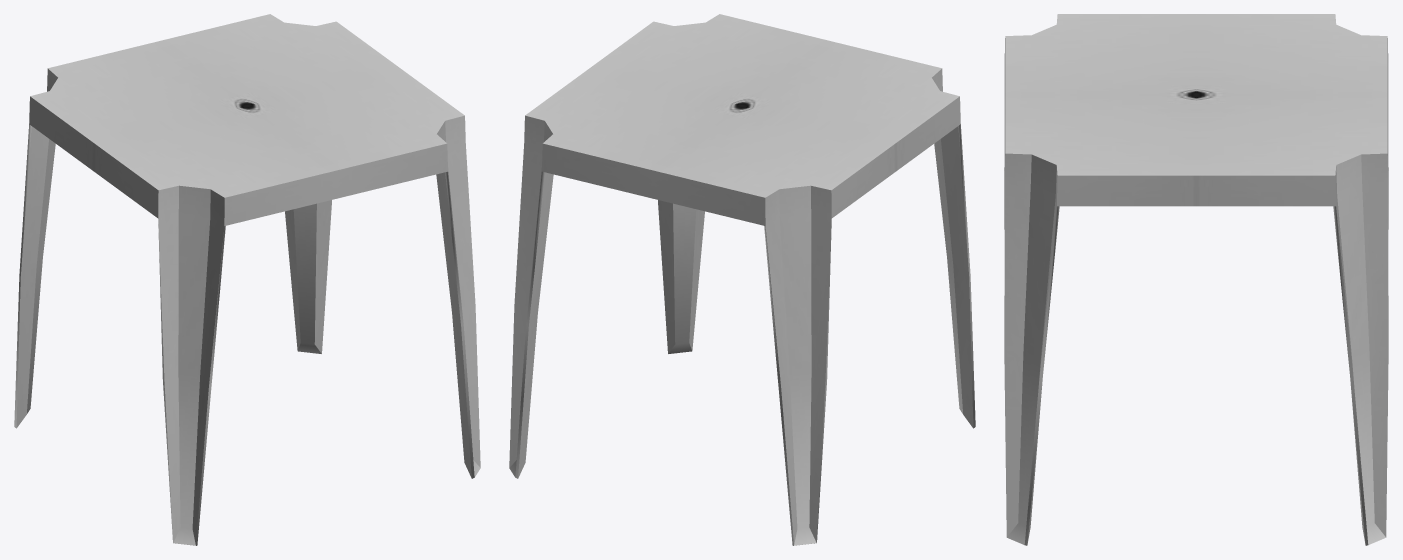
Rendered from PROP_mesa_bar.glb.
The picture shows the model from 3 angles, left to right: view 1: azimuth 30°, elevation 25°; view 2: azimuth 150°, elevation 25°; view 3: azimuth 270°, elevation 25°; orthographic projection. The views are drawn at different scales.
Parts seen in each view (by area): view 1: mesa_de_bar.001; view 2: mesa_de_bar.001; view 3: mesa_de_bar.001.
Part boxes in pixels (x1,y1,x2,y2): mesa_de_bar.001: (14, 14, 480, 545); mesa_de_bar.001: (509, 14, 975, 545); mesa_de_bar.001: (1004, 14, 1388, 545).
Bounding box in the file's own units: 0.7111 × 0.7482 × 0.7027.
Materials: 1 (1 with a texture image).
